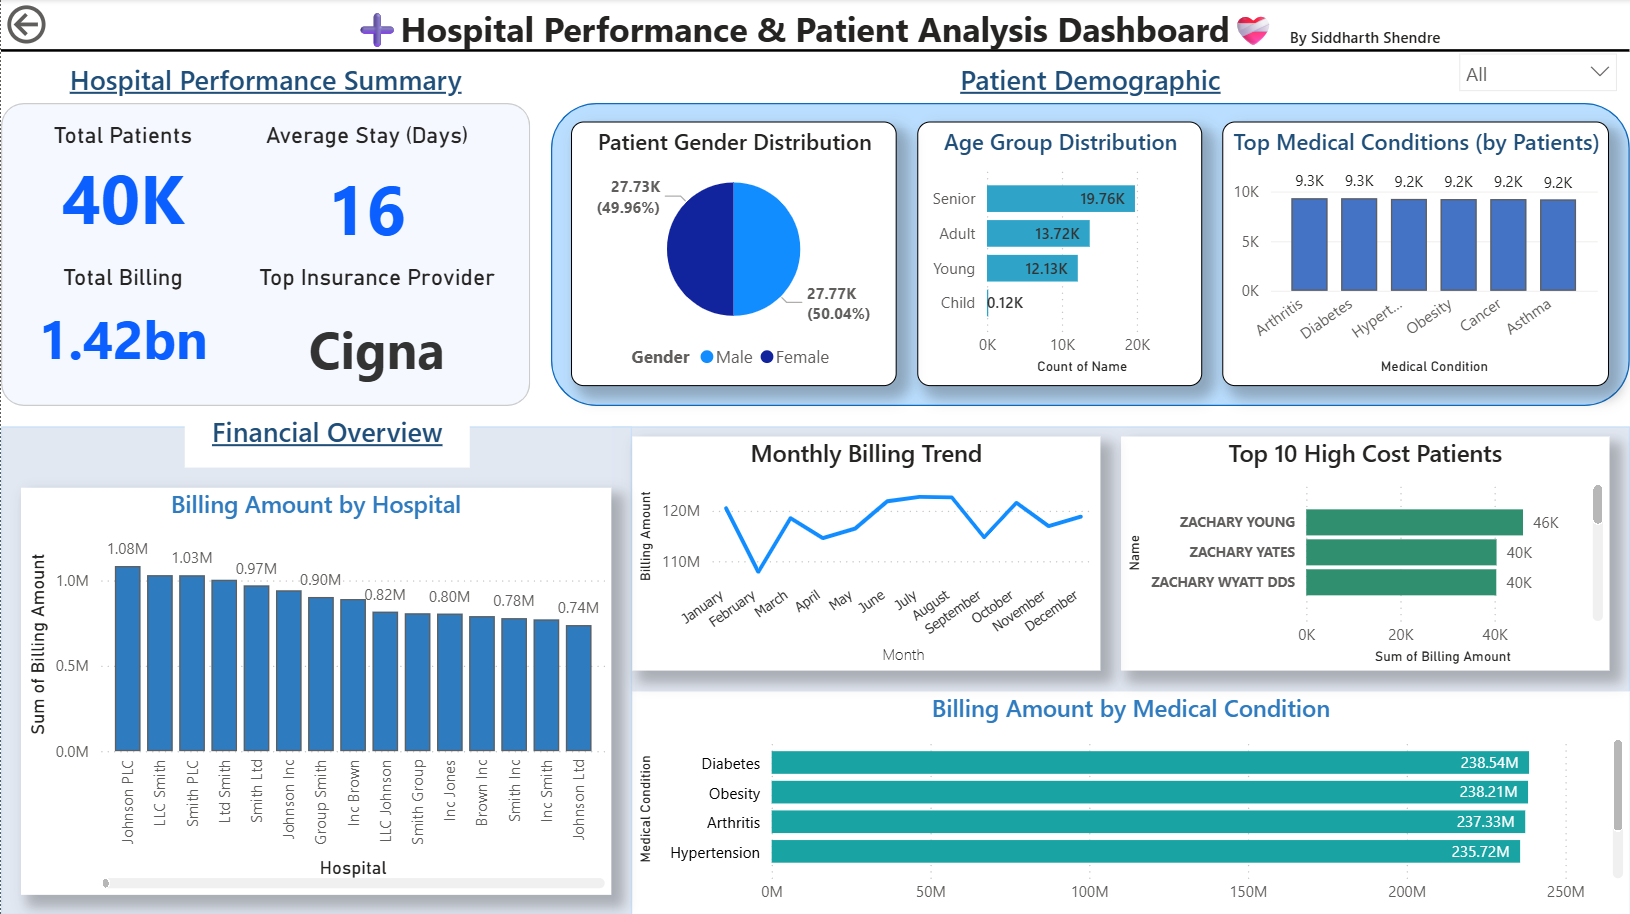

This screenshot's page, from the dashboard's own definition file:
{"tool":"powerbi","page":{"name":"Page 1","canvas":[1280,720],"ordinal":0},"visuals":[{"type":"shape","box":[0,32,1280,16],"z":0},{"type":"textbox","box":[0,0,1280,48],"z":1000},{"type":"shape","title":"Hospital Performance Summary","box":[0,48,416,272],"z":2000},{"type":"card","title":"Total Patients","fields":{"Values":["healthcare_dataset.Total Patients"]},"box":[0,96,192,96],"z":3000},{"type":"card","title":"Total Billing","fields":{"Values":["healthcare_dataset.Total Billing"]},"box":[0,208,192,96],"z":4000},{"type":"card","title":"Average Stay (Days)","fields":{"Values":["healthcare_dataset.Avg Stay (Days)"]},"box":[192,96,192,112],"z":5000},{"type":"card","title":"Top Insurance Provider","fields":{"Values":["healthcare_dataset.Top Insurance Provider"]},"box":[192,208,208,112],"z":6000},{"type":"shape","title":"Patient Demographic","box":[432,48,848,272],"z":7000},{"type":"clusteredColumnChart","title":"Top Medical Conditions (by Patients)","fields":{"Category":["healthcare_dataset.Medical Condition"],"Y":["healthcare_dataset.Name"]},"box":[960,96,304,208],"z":8000},{"type":"clusteredBarChart","title":"Age Group Distribution","fields":{"Category":["healthcare_dataset.Age Group"],"Y":["healthcare_dataset.Name"]},"box":[720,96,224,208],"z":9000},{"type":"shape","box":[480,336,800,384],"z":10000},{"type":"clusteredBarChart","title":"Billing Amount by Medical Condition","fields":{"Category":["healthcare_dataset.Medical Condition"],"Y":["healthcare_dataset.Billing Amount"]},"box":[496,544,784,176],"z":11000},{"type":"clusteredBarChart","title":"Top 10 High Cost Patients","fields":{"Category":["healthcare_dataset.Name"],"Y":["healthcare_dataset.Billing Amount"]},"box":[880,344,384,184],"z":12000},{"type":"shape","title":"Financial Overview ➤","box":[0,336,496,384],"z":13000},{"type":"lineChart","title":"Monthly Billing Trend","fields":{"Category":["healthcare_dataset.Date of Admission.Variation.Date Hierarchy.Month"],"Y":["healthcare_dataset.Billing Amount"]},"box":[496,344,368,184],"z":14000},{"type":"slicer","title":"Slicer","fields":{"Values":["healthcare_dataset.Hospital","healthcare_dataset.Medical Condition","healthcare_dataset.Gender","healthcare_dataset.Age Group","healthcare_dataset.Admission Type"]},"box":[1136,32,144,48],"z":15000},{"type":"actionButton","box":[0,0,40,40],"z":16000},{"type":"clusteredColumnChart","title":"Billing Amount by Hospital","fields":{"Category":["healthcare_dataset.Hospital"],"Y":["healthcare_dataset.Billing Amount"]},"box":[16,384,464,320],"z":17000},{"type":"pieChart","title":"Patient Gender Distribution","fields":{"Category":["healthcare_dataset.Gender"],"Y":["healthcare_dataset.Name"]},"box":[448,96,256,208],"z":18000},{"type":"textbox","box":[144,320,224,48],"z":19000},{"type":"textbox","box":[1008,16,144,32],"z":19001}]}

Visuals, with their boxes in screenshot pixels (x1, y1, x2, y2), scaled from the page's 1280x720 canvas onto the 1630x914 screenshot:
shape: bbox=[0, 41, 1629, 61]
textbox: bbox=[0, 0, 1629, 61]
"Hospital Performance Summary" shape: bbox=[0, 61, 530, 406]
"Total Patients" card: bbox=[0, 122, 244, 244]
"Total Billing" card: bbox=[0, 264, 244, 386]
"Average Stay (Days)" card: bbox=[244, 122, 489, 264]
"Top Insurance Provider" card: bbox=[244, 264, 509, 406]
"Patient Demographic" shape: bbox=[550, 61, 1629, 406]
"Top Medical Conditions (by Patients)" clusteredColumnChart: bbox=[1222, 122, 1610, 386]
"Age Group Distribution" clusteredBarChart: bbox=[917, 122, 1202, 386]
shape: bbox=[611, 427, 1629, 913]
"Billing Amount by Medical Condition" clusteredBarChart: bbox=[632, 691, 1629, 913]
"Top 10 High Cost Patients" clusteredBarChart: bbox=[1121, 437, 1610, 670]
"Financial Overview ➤" shape: bbox=[0, 427, 632, 913]
"Monthly Billing Trend" lineChart: bbox=[632, 437, 1100, 670]
"Slicer" slicer: bbox=[1447, 41, 1629, 102]
actionButton: bbox=[0, 0, 51, 51]
"Billing Amount by Hospital" clusteredColumnChart: bbox=[20, 487, 611, 894]
"Patient Gender Distribution" pieChart: bbox=[570, 122, 896, 386]
textbox: bbox=[183, 406, 469, 467]
textbox: bbox=[1284, 20, 1467, 61]
